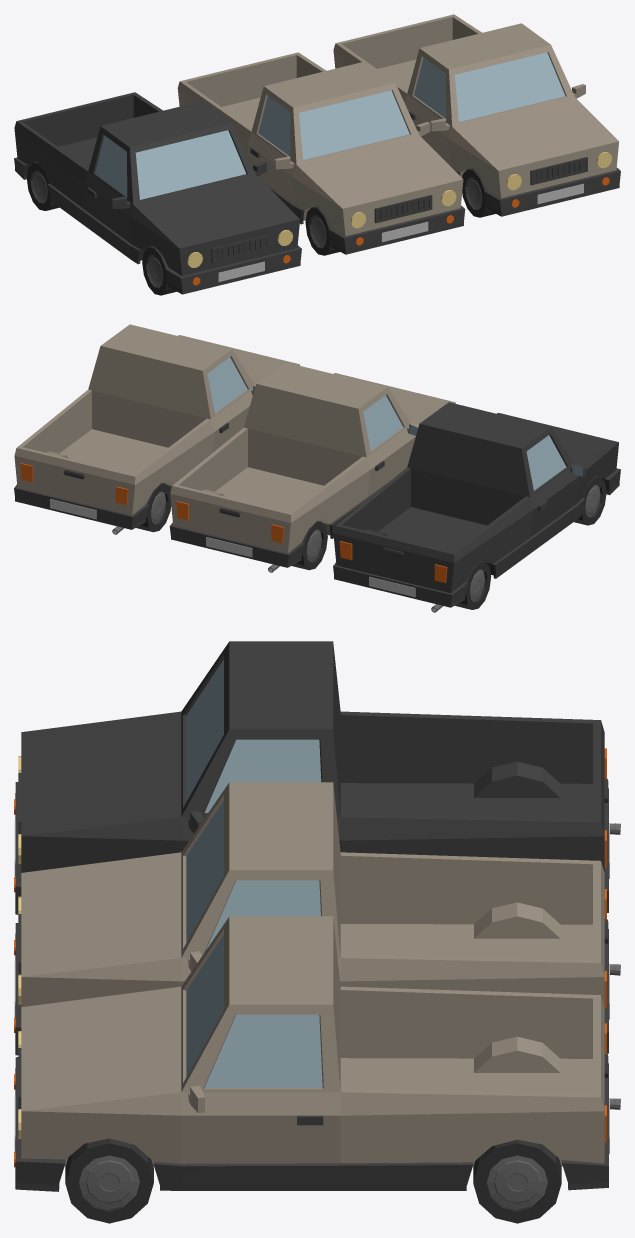
Rendered from car_1.fbx.
3 renders of one model, top to bottom at view 1: azimuth 30°, elevation 25°; view 2: azimuth 150°, elevation 25°; view 3: azimuth 270°, elevation 25°, orthographic. The views are drawn at different scales.
Parts seen in each view (by area): view 1: 1.0, 1.1, 1.2; view 2: 1.0, 1.1, 1.2; view 3: 1.2, 1.0, 1.1.
Boxes of the visible parts, x1=… form: 1.0: x1=14, y1=92, x2=301, y2=295; 1.1: x1=177, y1=52, x2=465, y2=255; 1.2: x1=333, y1=14, x2=620, y2=217; 1.0: x1=333, y1=402, x2=620, y2=612; 1.1: x1=169, y1=362, x2=455, y2=572; 1.2: x1=14, y1=324, x2=299, y2=534; 1.2: x1=14, y1=916, x2=620, y2=1223; 1.0: x1=14, y1=641, x2=620, y2=914; 1.1: x1=14, y1=782, x2=620, y2=1055.
Size of the model in its own units: 606 by 146 by 381.
Materials: 1 (1 with a texture image).
